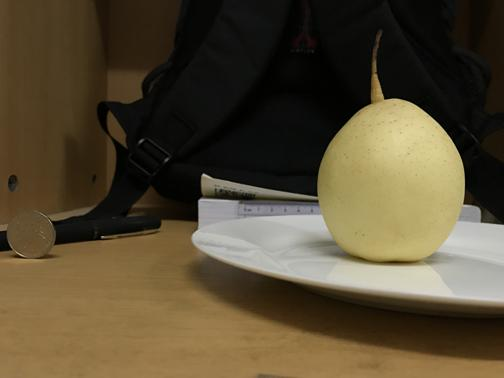coin: (5, 211, 56, 259)
pear: (317, 99, 465, 263)
